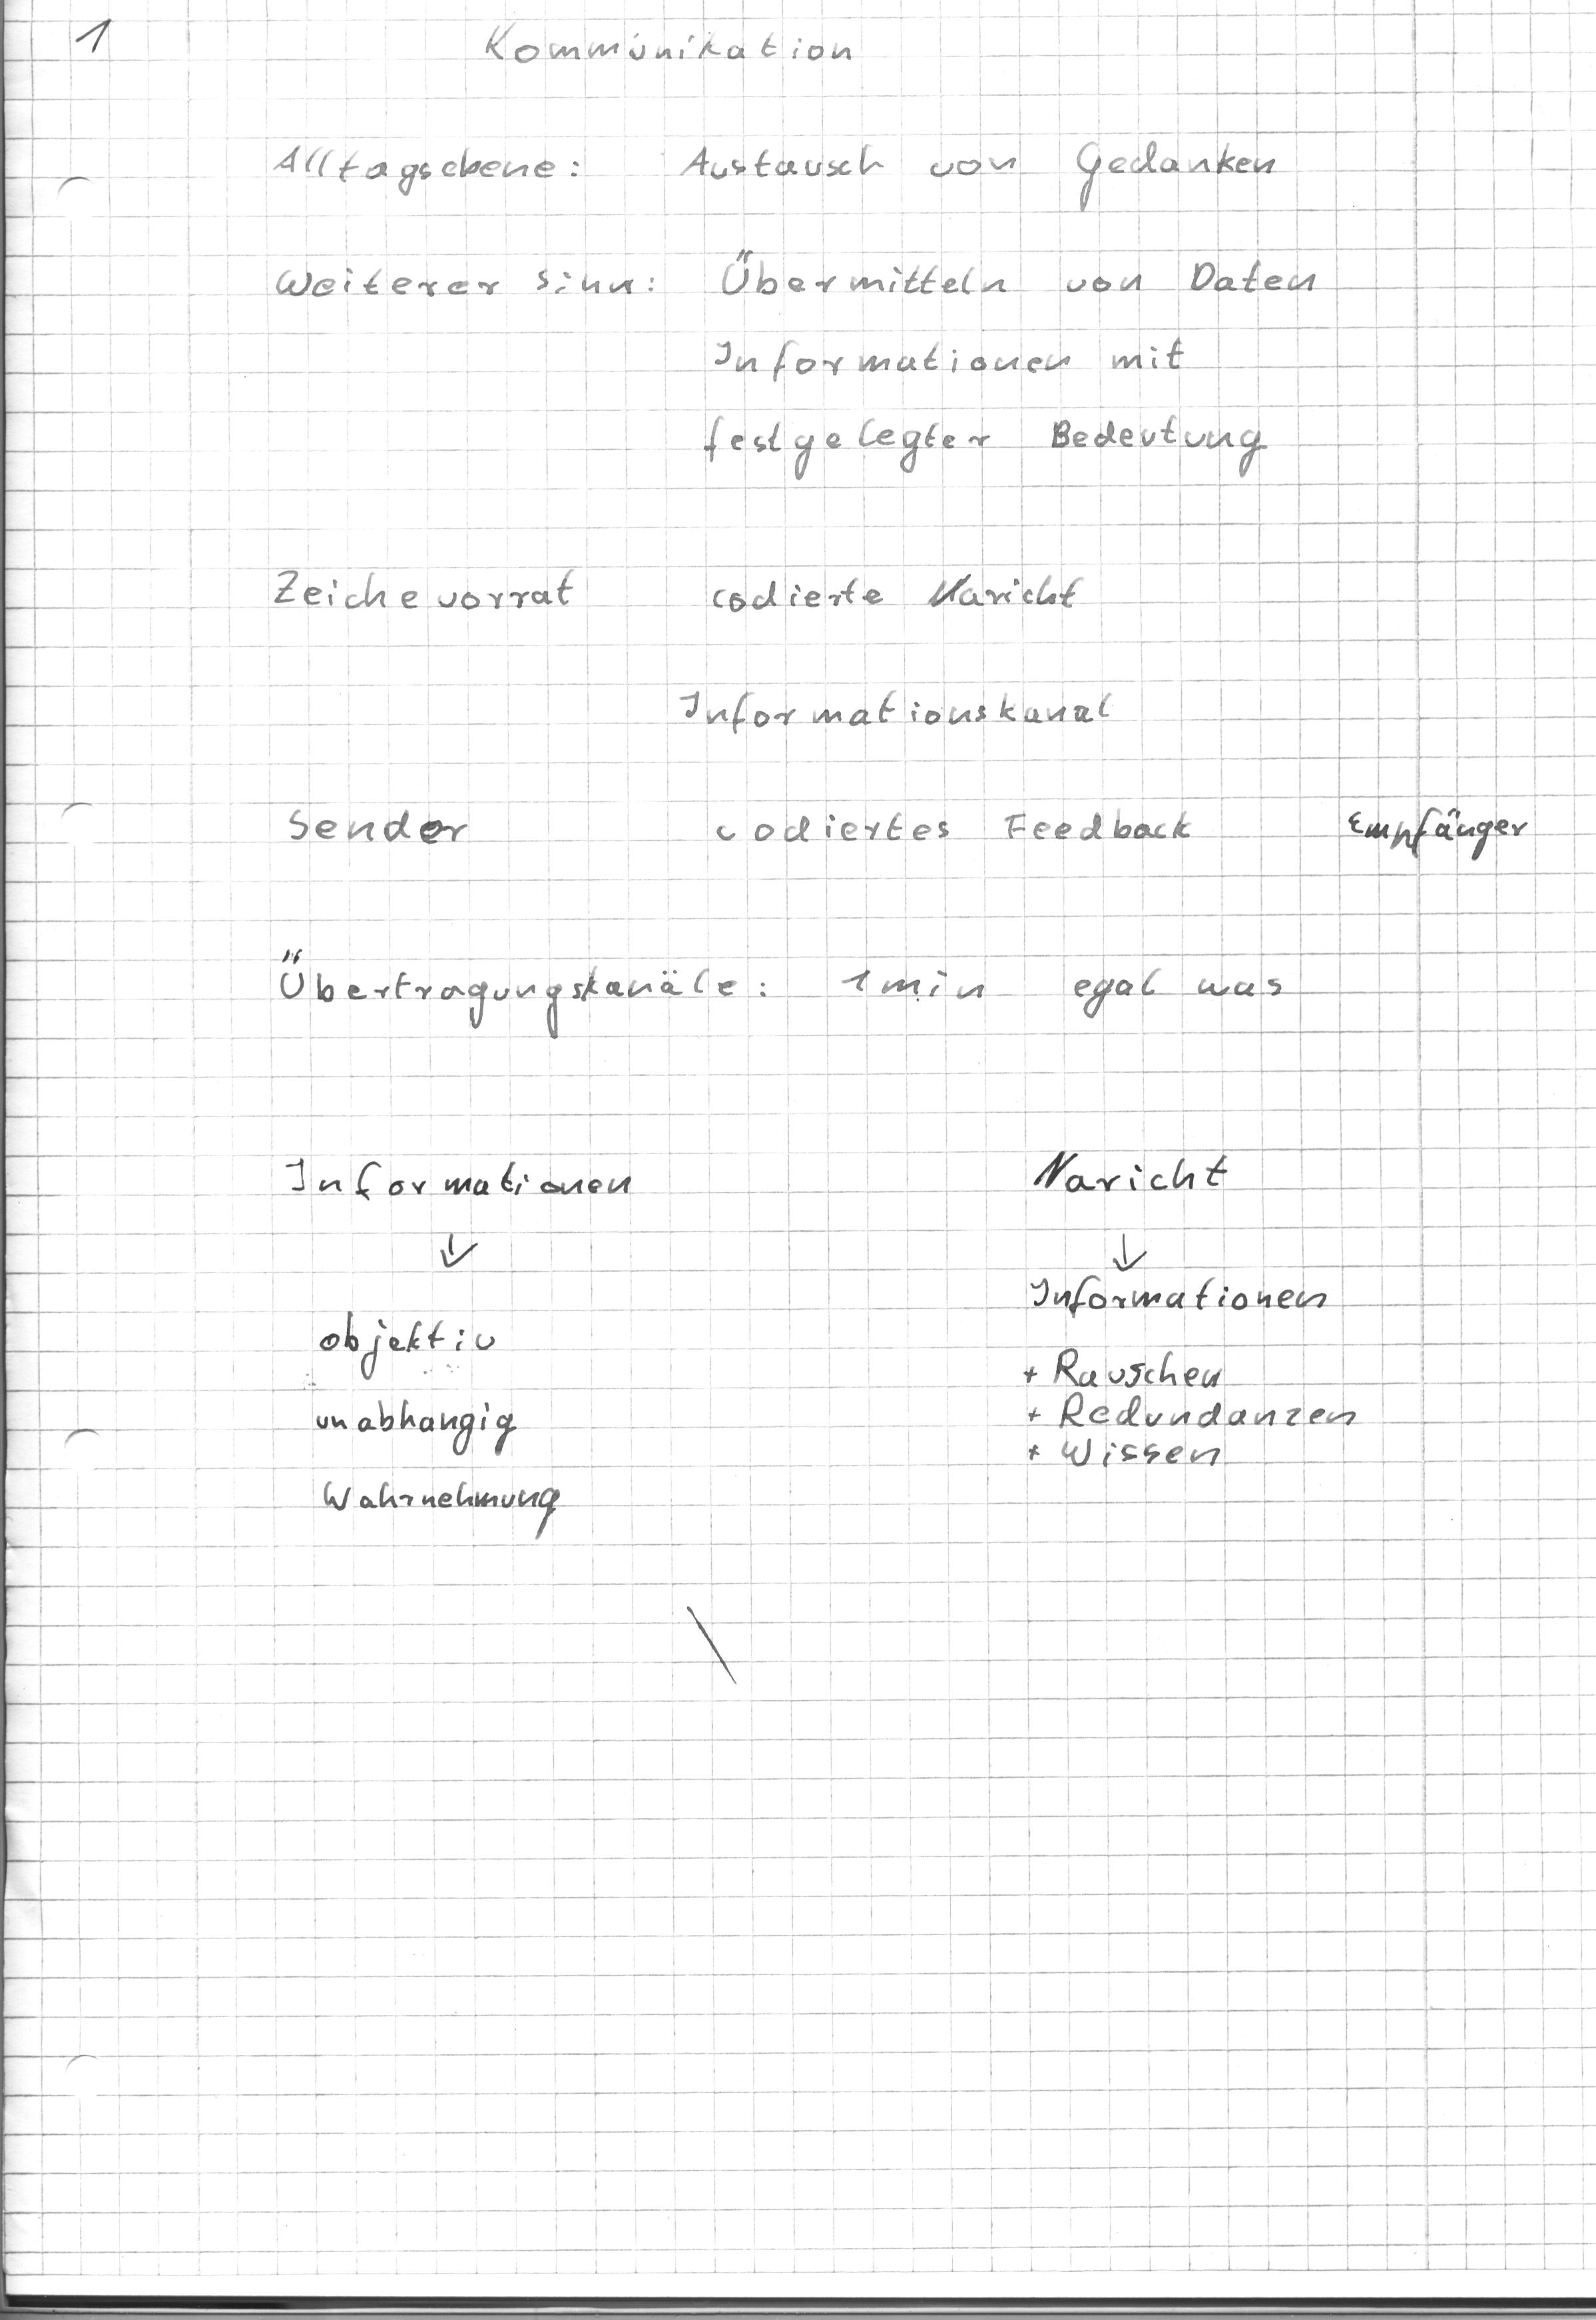word: (695, 242, 1326, 491), (272, 934, 1284, 1049), (1016, 1225, 1378, 1477), (260, 542, 1098, 644), (299, 1291, 581, 1550), (672, 129, 1288, 223), (704, 788, 1210, 865), (665, 667, 1131, 743), (268, 1139, 646, 1229), (264, 248, 664, 316), (475, 13, 864, 77), (264, 133, 591, 205), (1003, 1127, 1247, 1221), (269, 780, 497, 871), (1332, 788, 1540, 872)
